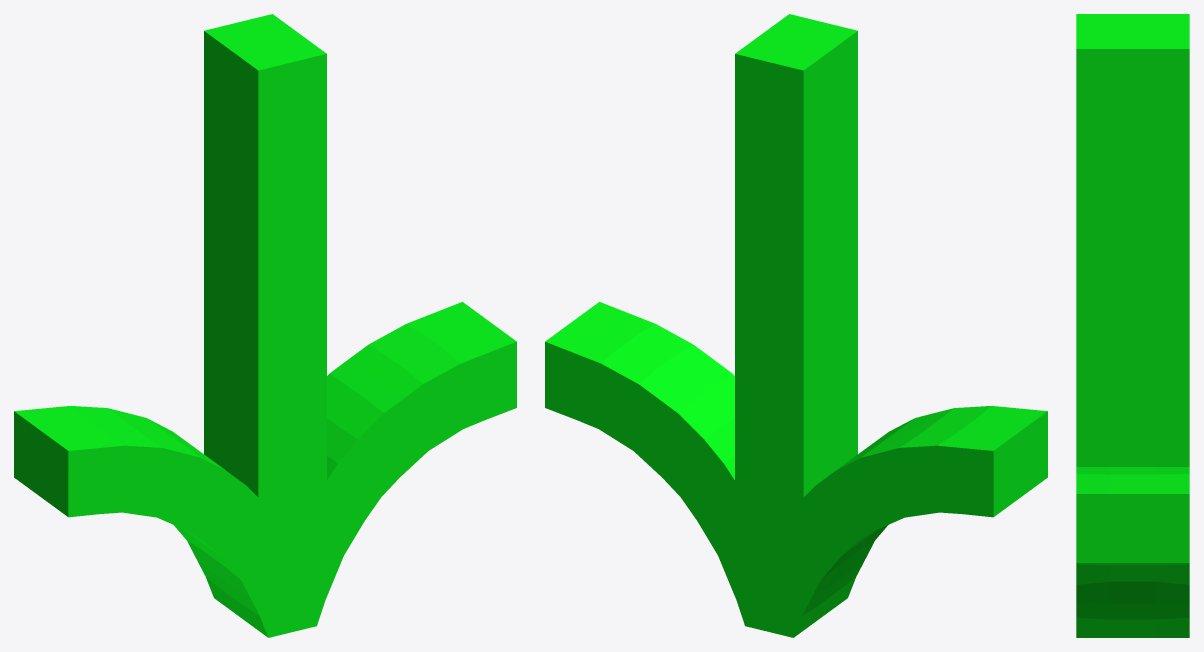
The picture shows the model from 3 angles, left to right: view 1: azimuth 30°, elevation 25°; view 2: azimuth 150°, elevation 25°; view 3: azimuth 270°, elevation 25°; orthographic projection. The views are drawn at different scales.
Parts seen in each view (by area): view 1: Q; view 2: Q; view 3: Q.
Boxes of the visible parts, left/top/right/bottom form: Q: left=14, top=14, right=516, bottom=637; Q: left=545, top=14, right=1047, bottom=637; Q: left=1076, top=14, right=1189, bottom=637.
Bounding box in the file's own units: 0.4757 × 0.5777 × 0.1.
